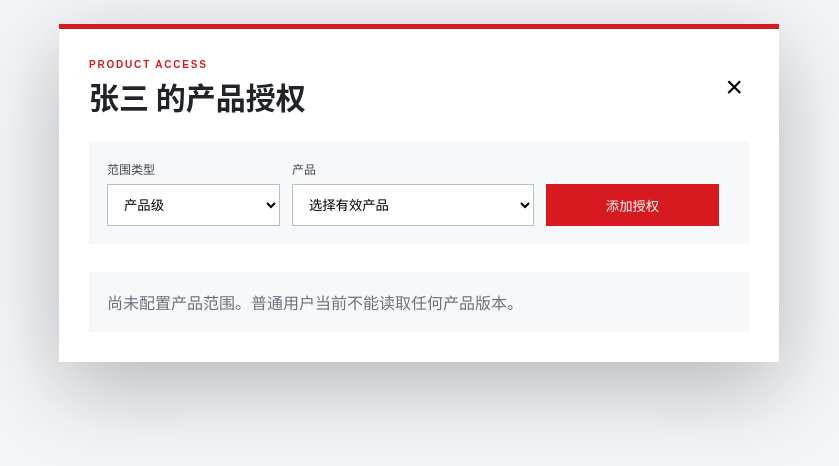
Scenario: ProductScopeEditor › grants a product scope and refreshes the effective summary
The width and height of the screenshot is (839, 466).
Select "监护仪（P-001）" in the dropdown named "product_id" at (413, 205), box [292,184,534,226]
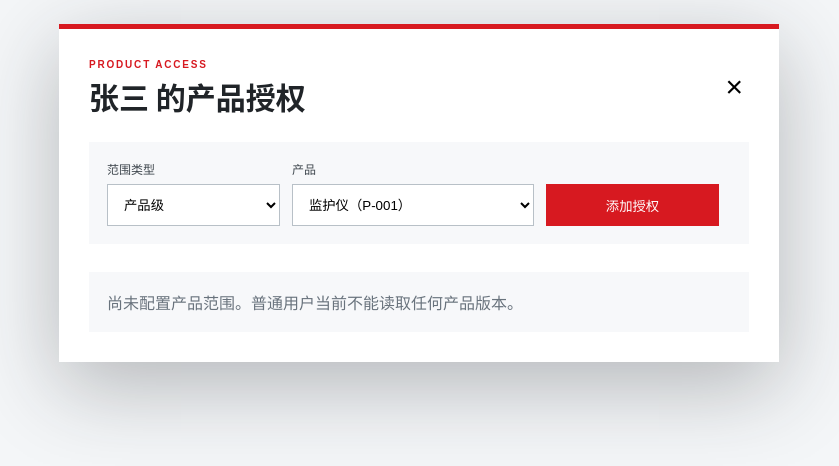
Submit the form, box [89,142,749,244]
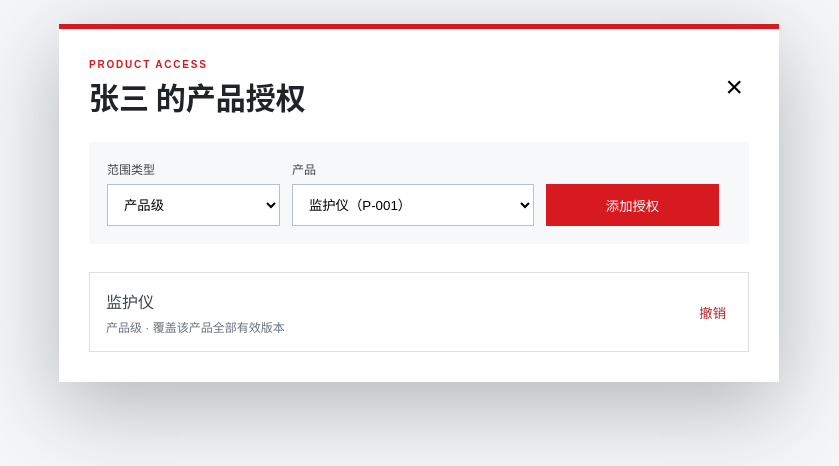
Now the text "覆盖该产品全部有效版本" is shown, box [106,321,285,335]
